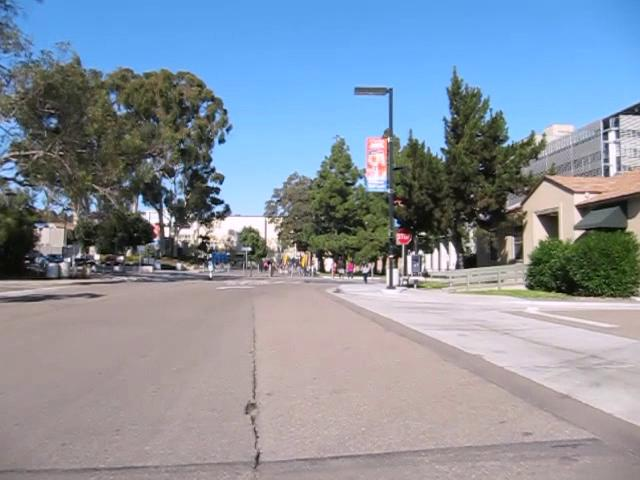stop: (394, 226, 413, 245)
